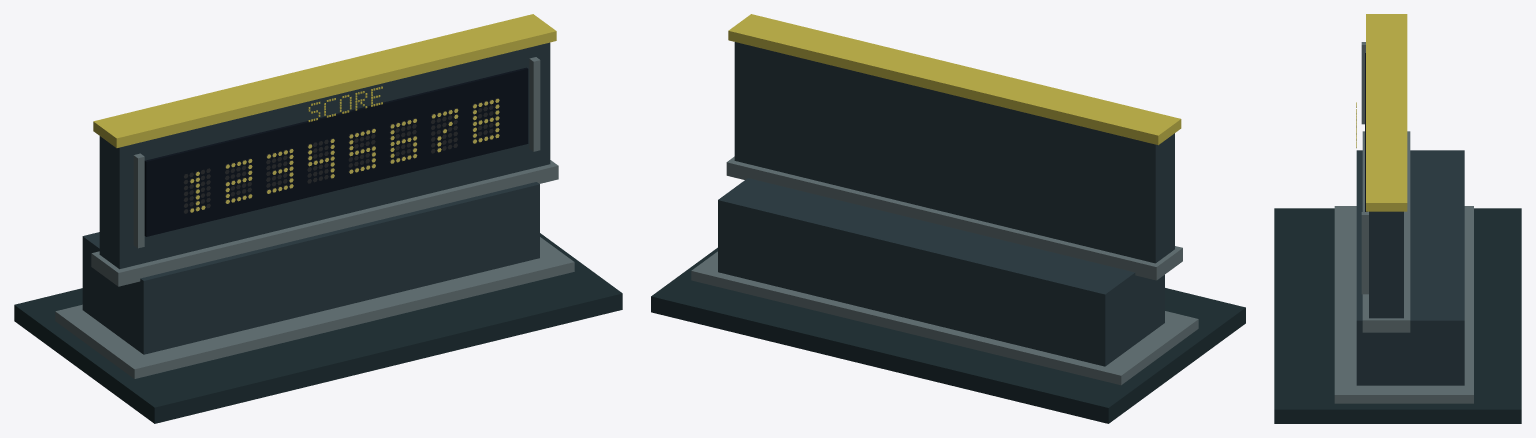
The model's file is flipdot_scoreboard_d0_lod1.meshopt.glb.
3 views of the same model, side by side, from view 1: azimuth 30°, elevation 25°; view 2: azimuth 150°, elevation 25°; view 3: azimuth 270°, elevation 25° (orthographic). The views are drawn at different scales.
Parts seen in each view (by area): view 1: SCOREBOARD_STRUCTURE, SCORE_STATIC_DIGITS; view 2: SCOREBOARD_STRUCTURE; view 3: SCOREBOARD_STRUCTURE.
Part boxes in pixels (x1=…): SCOREBOARD_STRUCTURE: x1=14, y1=14, x2=622, y2=423; SCORE_STATIC_DIGITS: x1=190, y1=98, x2=499, y2=212; SCOREBOARD_STRUCTURE: x1=651, y1=14, x2=1245, y2=423; SCOREBOARD_STRUCTURE: x1=1274, y1=14, x2=1521, y2=423.
Bounding box in the file's own units: 7.5 × 3.73 × 3.9.
